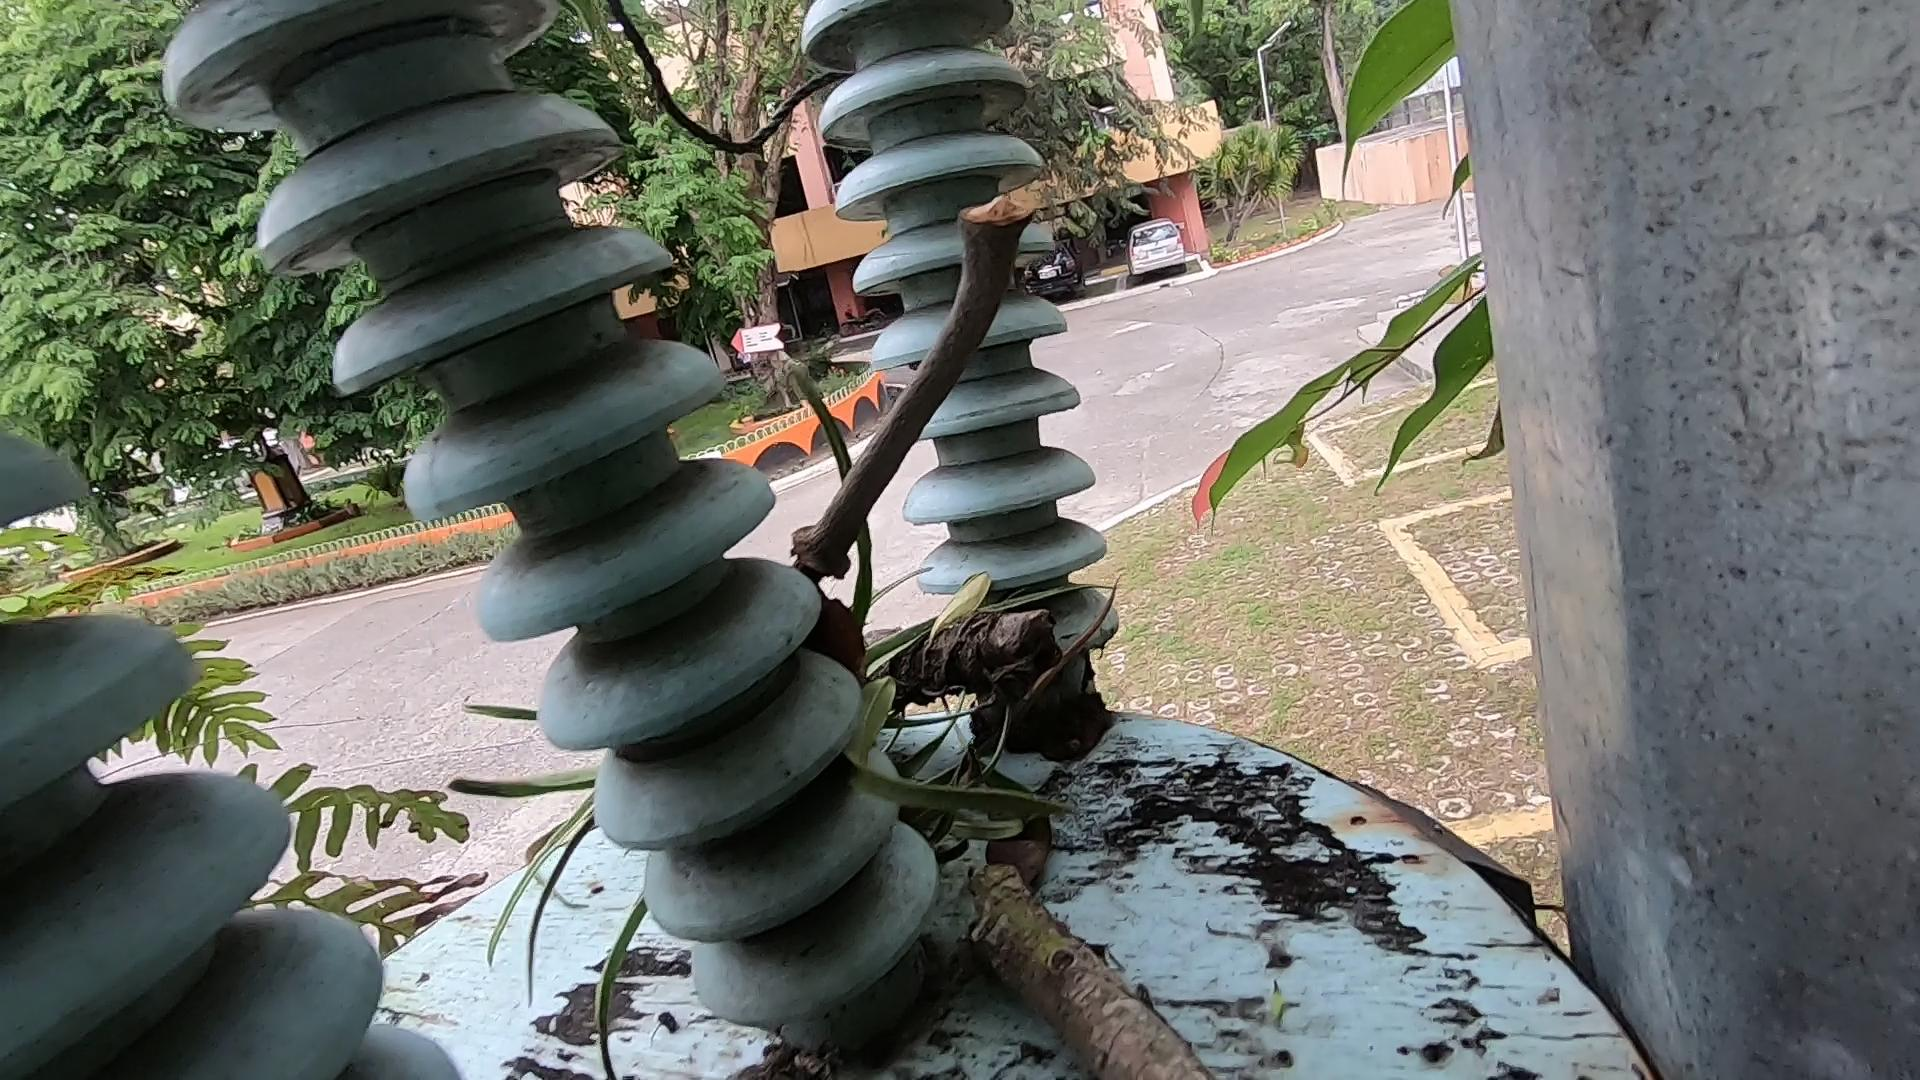branch with leaves: (760, 512, 1299, 1080)
tree branch: (831, 215, 1051, 632)
